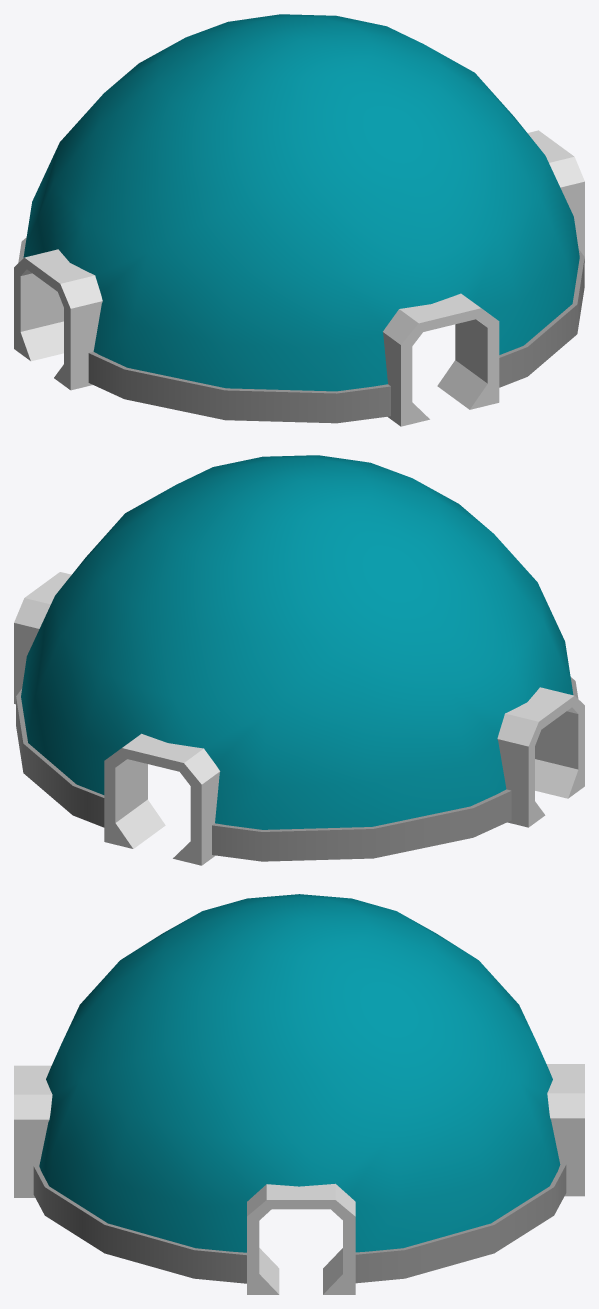
File: spherical_building_003.fbx
The picture shows the model from 3 angles, top to bottom: view 1: azimuth 30°, elevation 25°; view 2: azimuth 150°, elevation 25°; view 3: azimuth 270°, elevation 25°; orthographic projection. The views are drawn at different scales.
Parts seen in each view (by area): view 1: spherical_building_003; view 2: spherical_building_003; view 3: spherical_building_003.
Boxes of the visible parts, left/top/right/bottom form: spherical_building_003: left=14, top=14, right=584, bottom=426; spherical_building_003: left=14, top=455, right=584, bottom=865; spherical_building_003: left=14, top=894, right=584, bottom=1294.
Size of the model in its own units: 2071 by 2071 by 1023.
